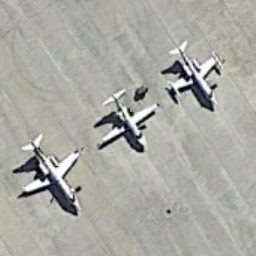Airplane: (2, 130, 86, 222), (85, 82, 163, 156), (163, 33, 229, 115)
